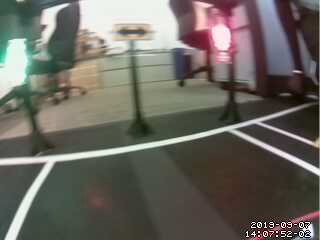Left_Right_sign: (109, 21, 155, 40)
Traffic_light_green: (5, 41, 26, 85)
Traffic_light_red: (210, 21, 230, 57)
